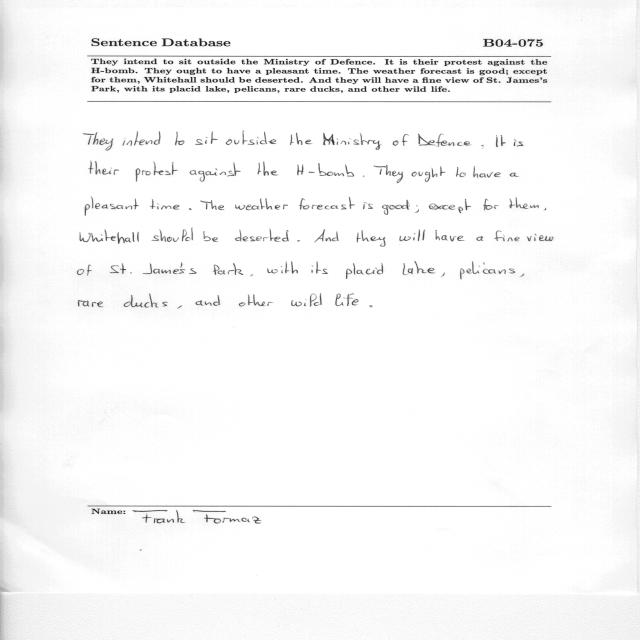word: (189, 162, 241, 182), (85, 197, 139, 216), (323, 133, 382, 150), (460, 262, 515, 280), (80, 229, 139, 244), (135, 162, 178, 182), (297, 163, 354, 177), (299, 197, 355, 210), (418, 134, 472, 147), (235, 229, 289, 242), (226, 131, 276, 145), (143, 262, 197, 274), (235, 199, 288, 211), (124, 294, 168, 308), (346, 263, 383, 279), (429, 199, 471, 213), (152, 228, 193, 242), (84, 132, 114, 151), (123, 131, 161, 146), (412, 166, 446, 182), (374, 165, 403, 183), (357, 230, 386, 247), (403, 261, 436, 275), (89, 161, 119, 175), (382, 200, 410, 215), (239, 295, 273, 307), (291, 294, 322, 307), (267, 262, 298, 274), (509, 197, 539, 209), (213, 263, 243, 275), (314, 230, 339, 243), (195, 131, 218, 145), (150, 199, 179, 210), (400, 229, 426, 241), (473, 166, 501, 177), (436, 230, 464, 241), (258, 161, 278, 176), (494, 231, 520, 242), (336, 294, 359, 306), (195, 295, 220, 306), (291, 133, 313, 145), (110, 263, 132, 274), (200, 200, 224, 210), (311, 261, 328, 274), (527, 234, 554, 241), (393, 134, 408, 146), (483, 199, 499, 210), (78, 300, 103, 307), (203, 231, 218, 242), (78, 265, 92, 276), (175, 132, 184, 146), (496, 135, 506, 147), (456, 167, 466, 177), (514, 139, 523, 147), (363, 202, 373, 209), (510, 173, 519, 177), (477, 236, 484, 241), (415, 206, 419, 213), (178, 305, 183, 309), (441, 273, 445, 277), (520, 273, 524, 277), (369, 305, 373, 307), (481, 145, 484, 147), (189, 208, 192, 210), (297, 240, 300, 242), (250, 275, 253, 277), (544, 208, 546, 210), (363, 176, 365, 177)
